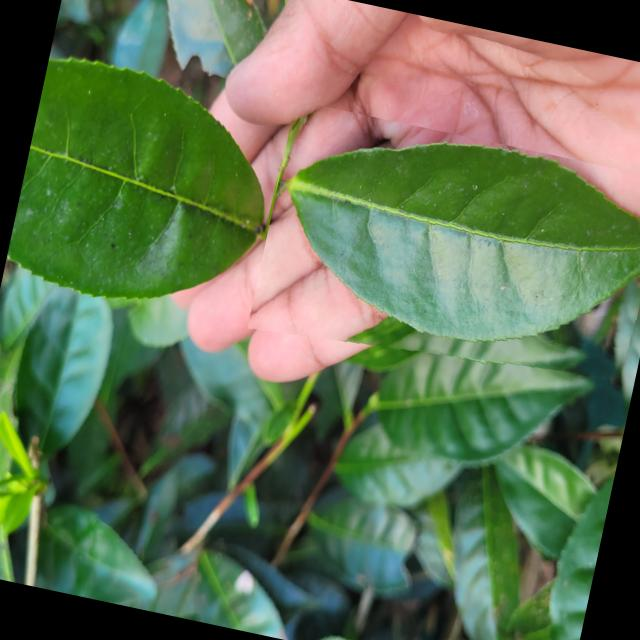Category D(7+ days, Not for Tea): (246, 99, 640, 409)
